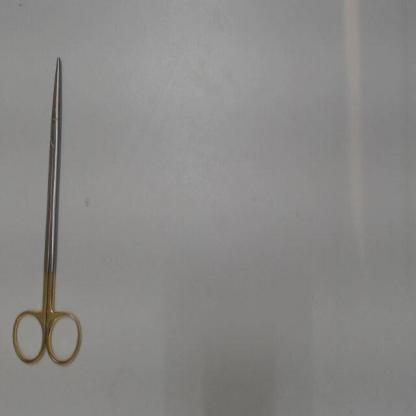7 Metzenbaum Scissors: (10, 55, 85, 371)
